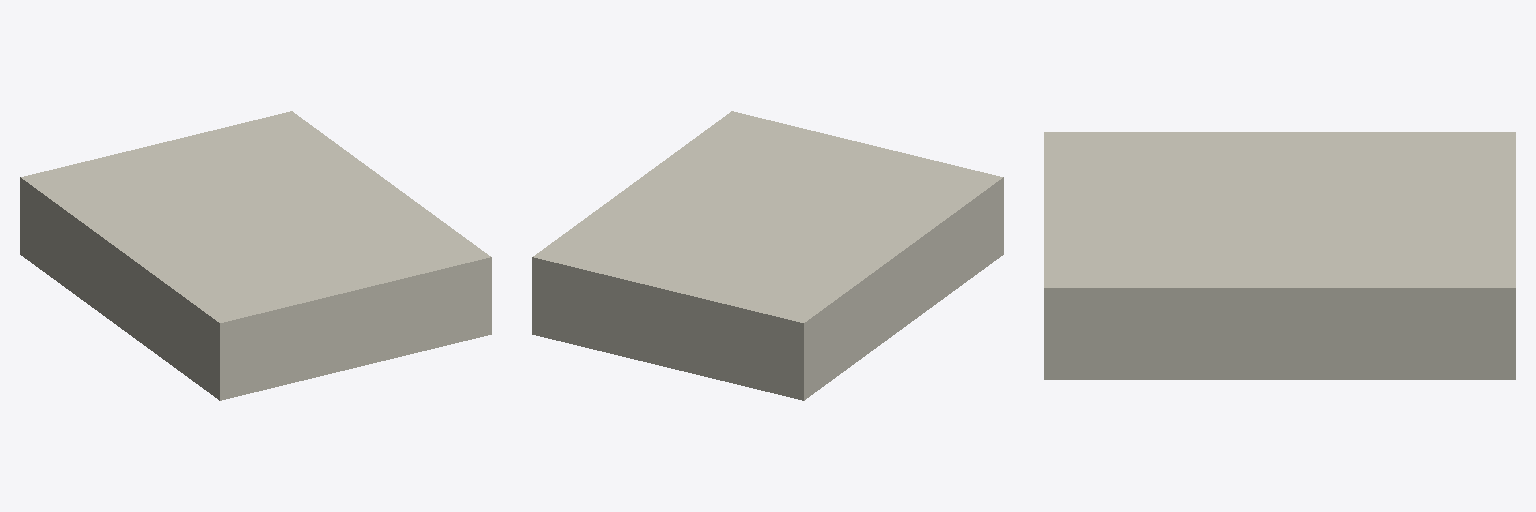
The robot description file, URDF, robot "old_laptop":
<?xml version="1.0"?>
<robot name="old_laptop">
  <!-- World / table reference -->
  <link name="world">
    <inertial>
      <mass value="0.0001"/>
      <origin xyz="0 0 0" rpy="0 0 0"/>
      <inertia ixx="1e-6" ixy="0" ixz="0" iyy="1e-6" iyz="0" izz="1e-6"/>
    </inertial>
  </link>

  <!-- Laptop base - stays on table -->
  <link name="base_link">
    <visual>
      <origin xyz="0 0 0" rpy="0 0 0"/>
      <geometry>
        <box size="0.22 0.28 0.035"/>
      </geometry>
      <material name="beige">
        <color rgba="0.82 0.81 0.76 1.0"/>
      </material>
    </visual>
    <!-- keyboard inset for appearance -->
    <visual>
      <origin xyz="0.01 0 0.0175" rpy="0 0 0"/>
      <geometry>
        <box size="0.16 0.24 0.004"/>
      </geometry>
      <material name="keyboard">
        <color rgba="0.75 0.74 0.70 1.0"/>
      </material>
    </visual>
    <collision>
      <origin xyz="0 0 0" rpy="0 0 0"/>
      <geometry>
        <box size="0.22 0.28 0.035"/>
      </geometry>
    </collision>
    <inertial>
      <origin xyz="0 0 0" rpy="0 0 0"/>
      <mass value="1.8"/>
      <inertia ixx="0.01194" ixy="0" ixz="0" iyy="0.00744" iyz="0" izz="0.01902"/>
    </inertial>
  </link>

  <!-- Laptop lid / screen - rotates about rear hinge -->
  <link name="lid_link">
    <!-- lid box, centre offset forward from hinge -->
    <visual>
      <origin xyz="0.11 0 0.0125" rpy="0 0 0"/>
      <geometry>
        <box size="0.22 0.28 0.025"/>
      </geometry>
      <material name="beige_lid">
        <color rgba="0.82 0.81 0.76 1.0"/>
      </material>
    </visual>
    <!-- black screen on inner face (faces keyboard when closed) -->
    <visual>
      <origin xyz="0.11 0 0.0" rpy="0 0 0"/>
      <geometry>
        <box size="0.19 0.24 0.002"/>
      </geometry>
      <material name="screen">
        <color rgba="0.02 0.02 0.03 1.0"/>
      </material>
    </visual>
    <collision>
      <origin xyz="0.11 0 0.0125" rpy="0 0 0"/>
      <geometry>
        <box size="0.22 0.28 0.025"/>
      </geometry>
    </collision>
    <inertial>
      <origin xyz="0.11 0 0.0125" rpy="0 0 0"/>
      <mass value="0.6"/>
      <inertia ixx="0.00395" ixy="0" ixz="0" iyy="0.00245" iyz="0" izz="0.00634"/>
    </inertial>
  </link>

  <!-- Fix base to table -->
  <joint name="world_to_base" type="fixed">
    <parent link="world"/>
    <child link="base_link"/>
    <origin xyz="0 0 0.0175" rpy="0 0 0"/>
  </joint>

  <!-- Rear hinge: closed = 0, open ~100 deg = -1.85 rad -->
  <joint name="lid_hinge" type="revolute">
    <parent link="base_link"/>
    <child link="lid_link"/>
    <origin xyz="-0.11 0 0.0175" rpy="0 0 0"/>
    <axis xyz="0 1 0"/>
    <limit lower="-1.85" upper="0.0" effort="10.0" velocity="2.0"/>
    <dynamics damping="0.2" friction="0.1"/>
  </joint>
</robot>

--- Facts derived from the render (not from the file) ---
Views: 3 orthographic renders of the robot side by side, from view 1: azimuth 30°, elevation 25°; view 2: azimuth 150°, elevation 25°; view 3: azimuth 270°, elevation 25°.
Model old_laptop with 3 links and 2 joints (1 revolute, 1 fixed), rooted at world, posed every joint at zero.
Visible links, largest first — view 1: lid_link, base_link; view 2: lid_link, base_link; view 3: lid_link, base_link.
Boxes of the visible links, bbox=[...] form: lid_link: bbox=[20, 111, 491, 355]; base_link: bbox=[20, 210, 491, 400]; lid_link: bbox=[532, 111, 1003, 355]; base_link: bbox=[532, 210, 1003, 400]; lid_link: bbox=[1044, 132, 1515, 326]; base_link: bbox=[1044, 327, 1515, 379].
Size in the robot's own frame: 0.22 by 0.28 by 0.06 metres.
Geometry: primitives only (box / cylinder / sphere), no mesh files.
